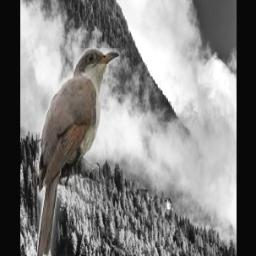Cuckoo: (37, 49, 120, 256)
